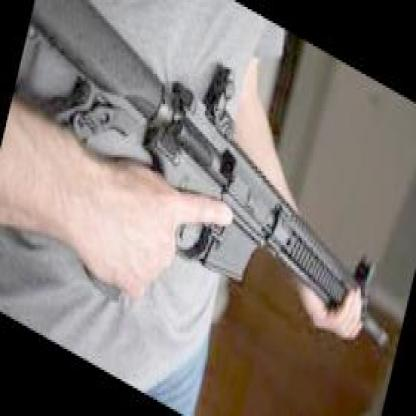rifle: (0, 0, 416, 384)
